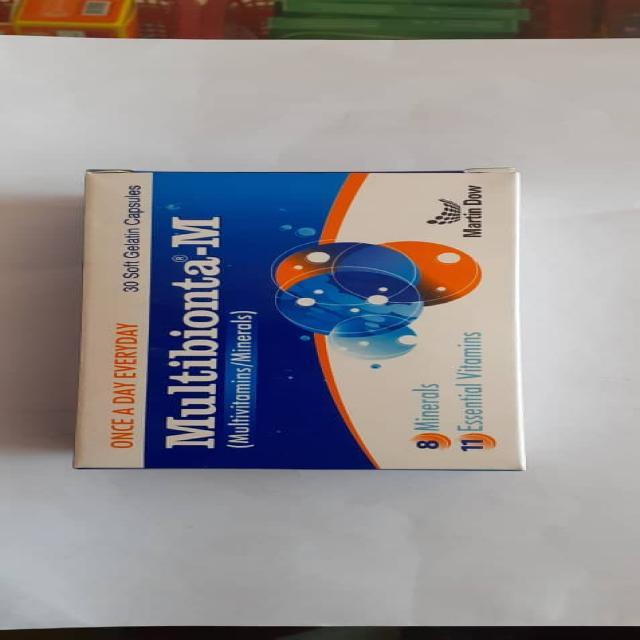drug-name: (163, 211, 222, 450)
